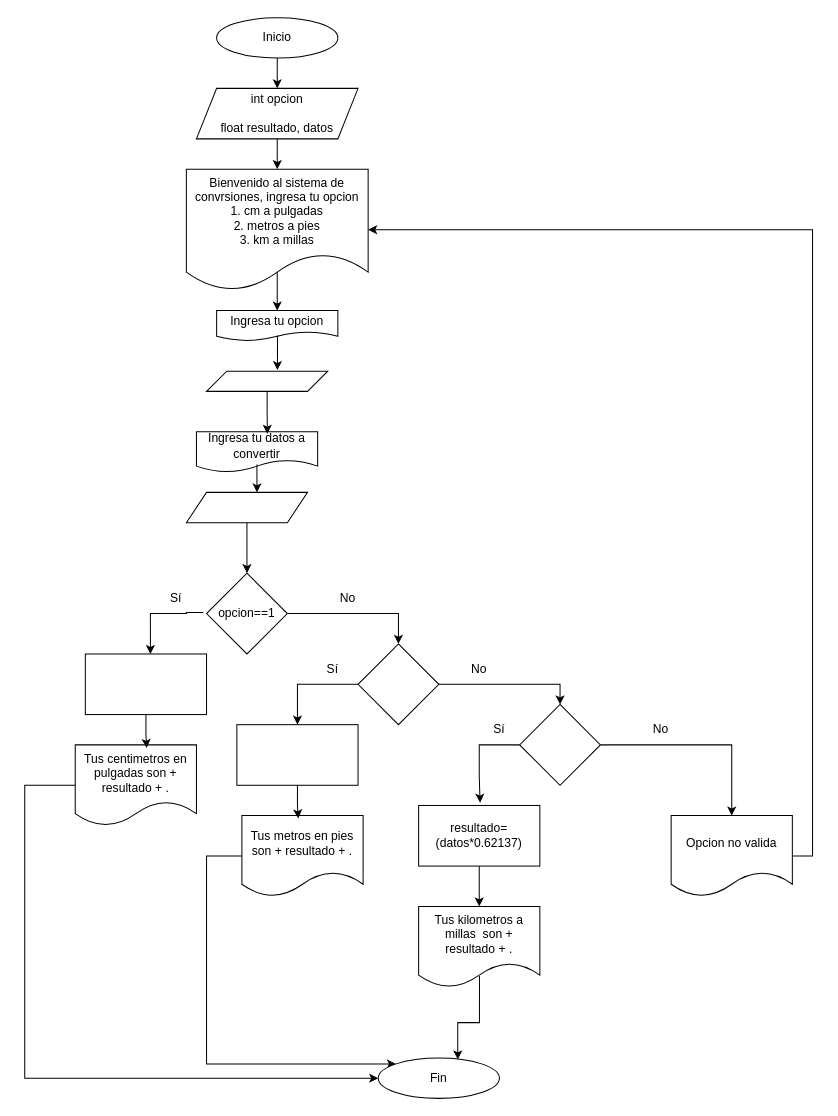
Some shapes in this 838 by 1116 pixel diagram are drawn without their labels. Here are the shapes that lost their labels. From the top down, the centre of each, then its label:
At pixel 267 380: "opcion".
At pixel 246 507: "datos".
At pixel 145 684: "resultado= (datos/2.54)".
At pixel 398 684: "opcion==2".
At pixel 297 754: "resultado= (datos*3.28084)".
At pixel 559 744: "opcion==3".
